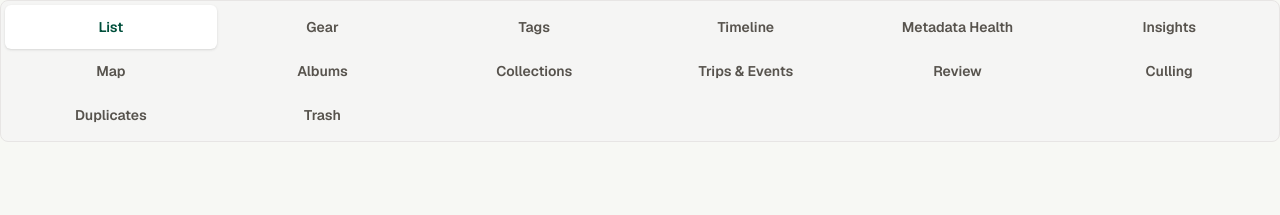
Test: navigation explains unsupported views and retains tag criteria in List and Culling links
Click the link "Map".
click(111, 71)  # box [96,62,126,80]
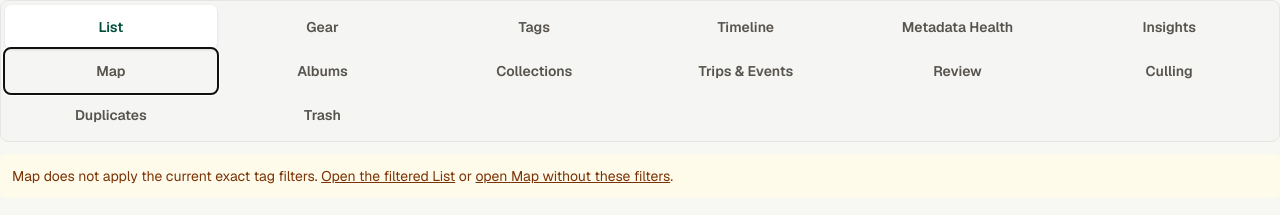
Now the message shows "does not apply the current exact tag filters", box [0,154,1279,198]
